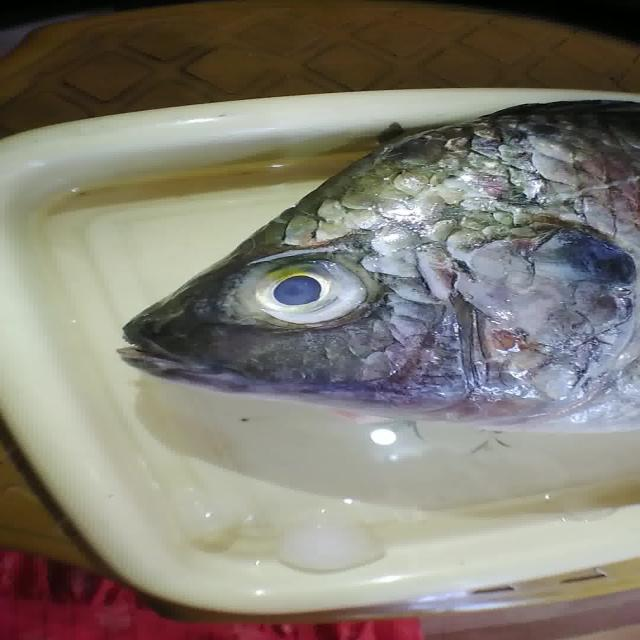Fresh: (208, 255, 384, 339)
